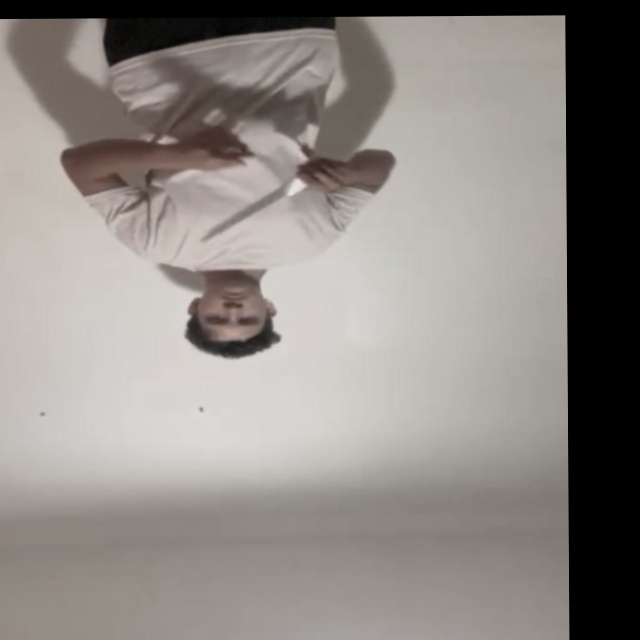Sharp-Object: (198, 182, 295, 239)
